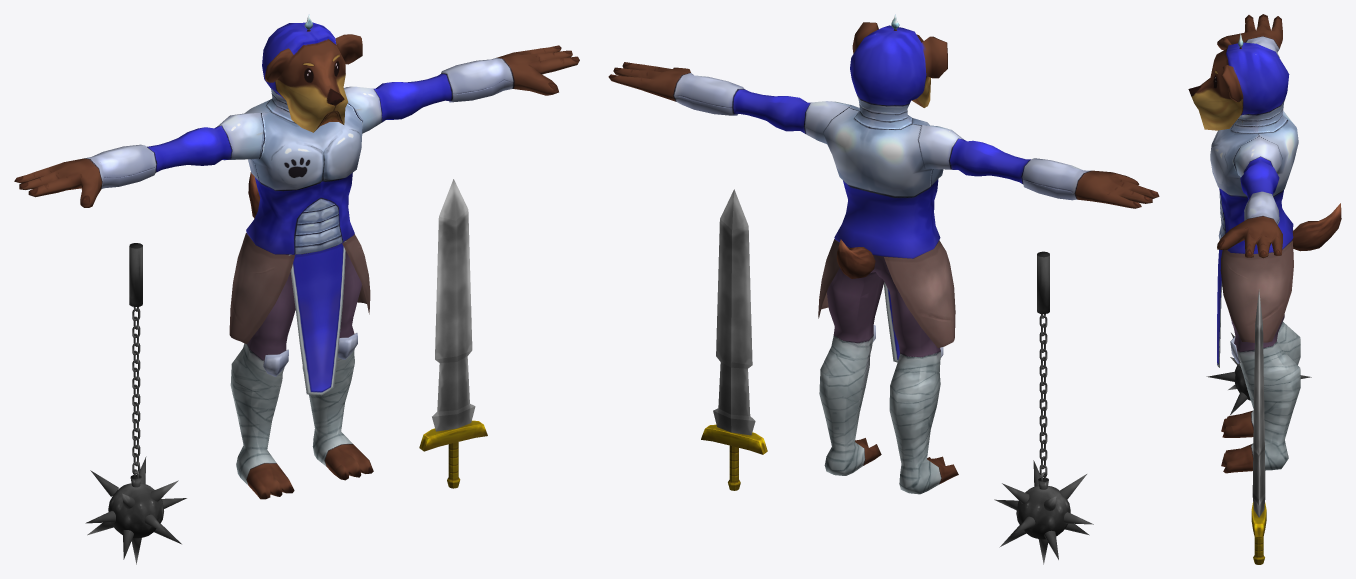
File: Dog Knight.fbx
3 renders of one model, left to right at view 1: azimuth 30°, elevation 25°; view 2: azimuth 150°, elevation 25°; view 3: azimuth 270°, elevation 25°, orthographic. The views are drawn at different scales.
Parts seen in each view (by area): view 1: Dog, Sword, Mace; view 2: Dog, Sword, Mace; view 3: Dog, Sword, Mace.
Part boxes in pixels (bbox=[...]): Dog: bbox=[14, 14, 579, 499]; Sword: bbox=[419, 179, 487, 488]; Mace: bbox=[85, 243, 186, 564]; Dog: bbox=[608, 14, 1159, 494]; Sword: bbox=[701, 189, 767, 490]; Mace: bbox=[994, 251, 1093, 564]; Dog: bbox=[1188, 14, 1341, 473]; Sword: bbox=[1251, 289, 1266, 564]; Mace: bbox=[1206, 333, 1311, 415].
Bounding box in the file's own units: 773 × 692 × 207.
3 materials, 3 textured.
